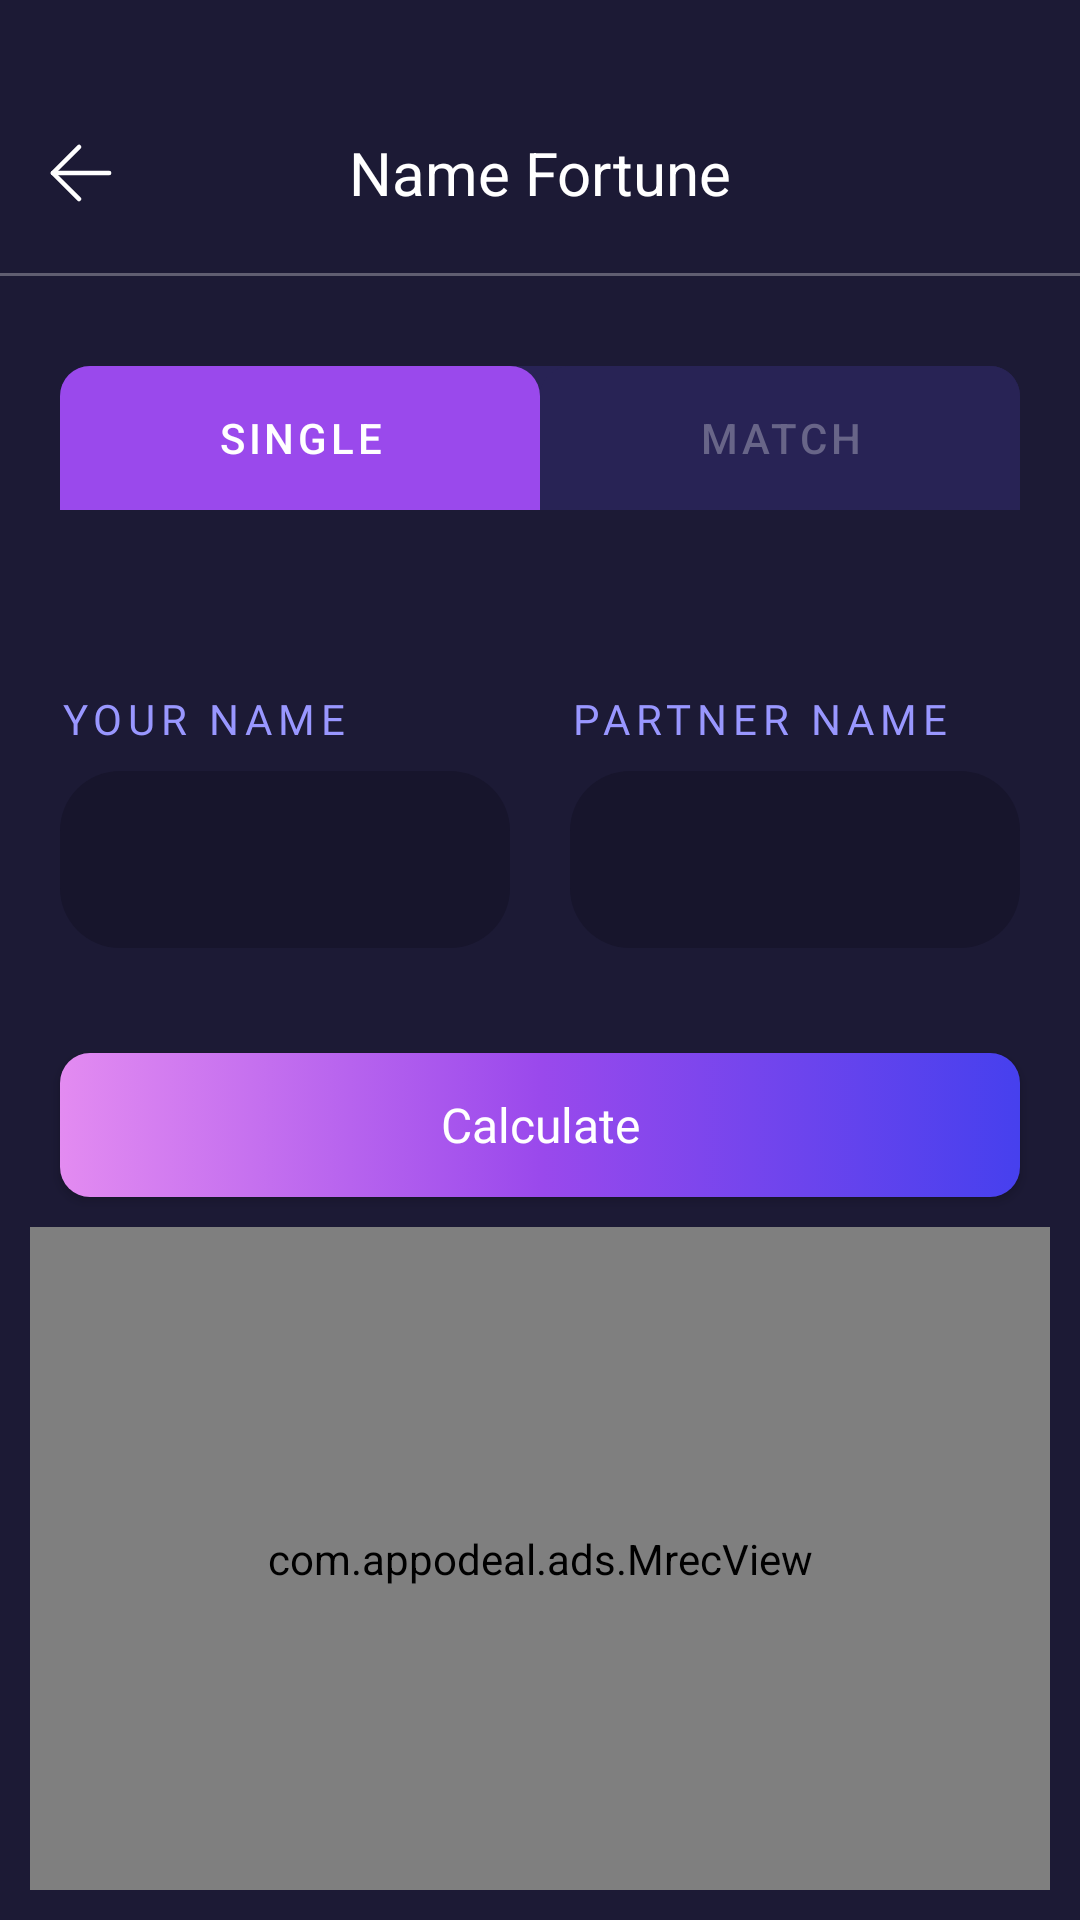

Locate icon controls on the screen. Image size 1080px x 1920px, boxes as box=[x1, y1, x2, y2].
arrow left: box=[50, 144, 112, 202]
